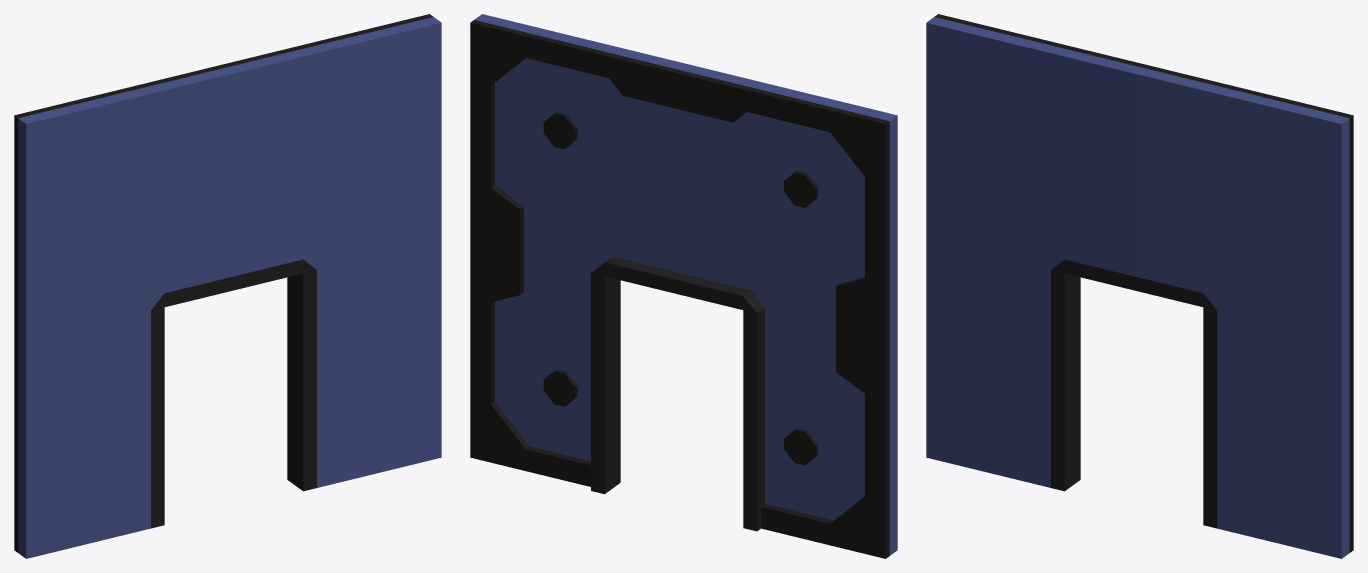
The model's file is Walls_Exterior_Doorway.glb.
3 views of the same model, side by side, from view 1: azimuth 30°, elevation 25°; view 2: azimuth 150°, elevation 25°; view 3: azimuth 330°, elevation 25° (orthographic).
Parts seen in each view (by area): view 1: Door_Wall, Door_Frame, Extruded Wall; view 2: Door_Wall, Extruded Wall, Door_Frame, Cube; view 3: Door_Wall, Door_Frame, Extruded Wall.
Part boxes in pixels (box(x1,y1,x2,y2)): Door_Wall: box(18, 17, 441, 558); Door_Frame: box(151, 259, 316, 528); Extruded Wall: box(14, 14, 433, 552); Door_Wall: box(474, 14, 897, 555); Extruded Wall: box(470, 20, 889, 558); Door_Frame: box(591, 256, 764, 531); Cube: box(543, 112, 817, 465); Door_Wall: box(926, 17, 1349, 558); Door_Frame: box(1051, 259, 1216, 528); Extruded Wall: box(934, 14, 1353, 552).
Size of the model in its own units: 6 by 6 by 0.4.
